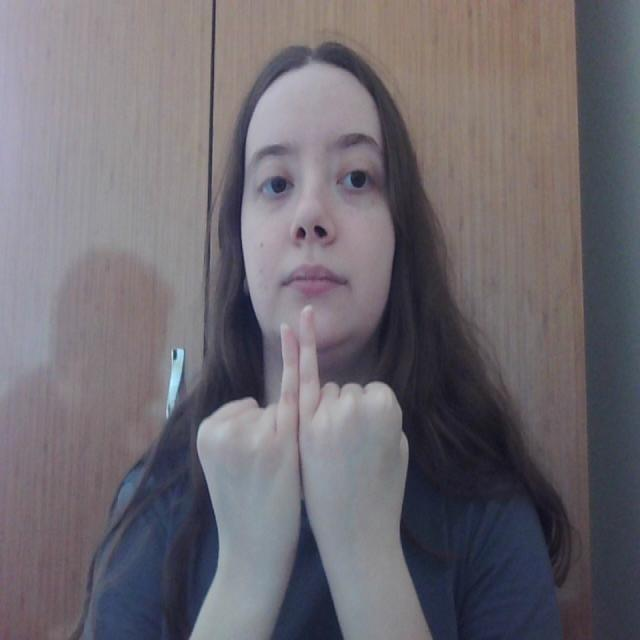Kardes: (193, 300, 412, 572)
